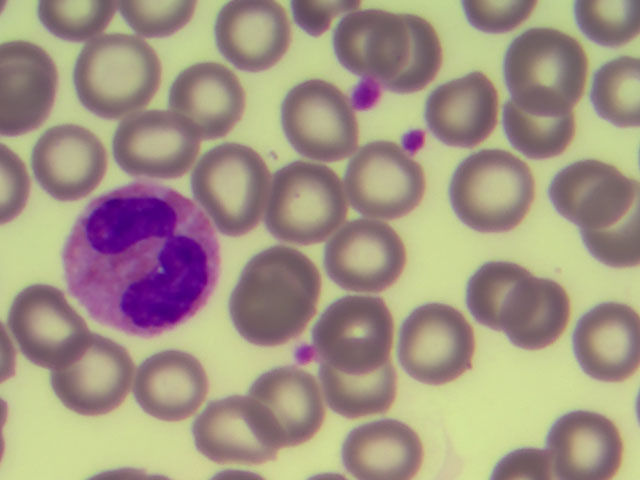Platelets: (354, 76, 380, 109), (401, 126, 425, 154), (294, 343, 317, 364)
RBC: (240, 253, 322, 341), (79, 35, 162, 114), (267, 160, 349, 237), (505, 31, 588, 106), (453, 156, 534, 232), (278, 83, 353, 164), (254, 370, 324, 448), (56, 337, 130, 410), (500, 86, 573, 159), (403, 307, 477, 378), (320, 299, 397, 367), (173, 62, 244, 134), (430, 72, 502, 143), (328, 218, 403, 286), (203, 405, 288, 465), (122, 112, 200, 176), (584, 180, 640, 267), (549, 414, 622, 480), (581, 302, 640, 383), (2, 43, 57, 129), (12, 284, 68, 368), (317, 359, 396, 418), (554, 162, 630, 222), (219, 1, 290, 65), (40, 128, 105, 194), (209, 145, 263, 224), (349, 425, 424, 480), (473, 262, 535, 328), (337, 17, 411, 72), (138, 358, 203, 419), (387, 13, 435, 89), (516, 277, 567, 347), (347, 148, 396, 219), (594, 59, 640, 126), (578, 1, 640, 45), (38, 1, 117, 29), (463, 1, 532, 32), (2, 146, 31, 218), (493, 448, 563, 476), (123, 1, 186, 32), (293, 1, 353, 32), (1, 318, 20, 380), (96, 465, 158, 480), (207, 472, 273, 480), (2, 391, 9, 459), (303, 472, 352, 480)
WBC: (73, 198, 216, 332)
